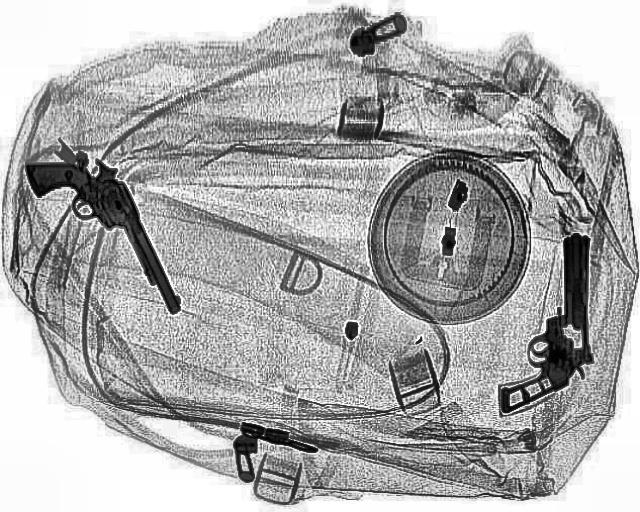Gun: (20, 144, 182, 332), (492, 232, 594, 412)
